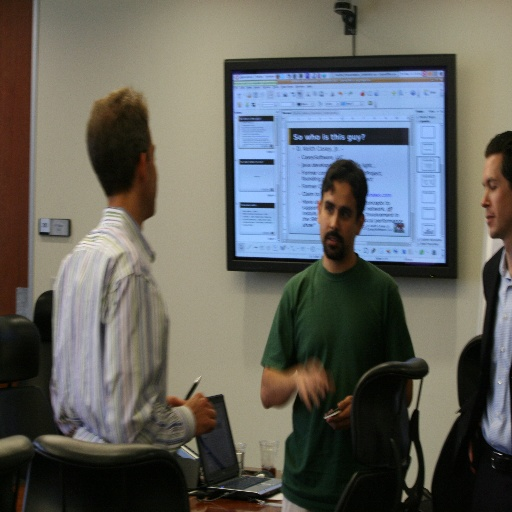hand: (169, 397, 216, 448), (294, 365, 330, 412), (322, 396, 352, 432), (468, 438, 476, 475), (165, 395, 186, 407)
